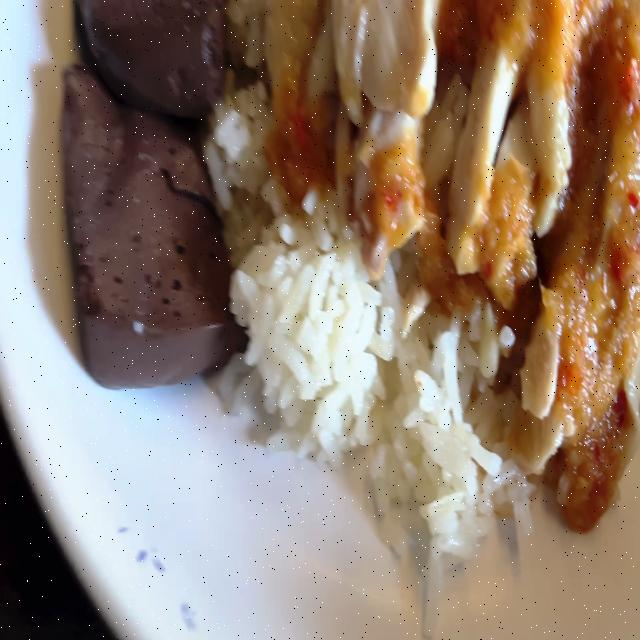boiled_chicken: (301, 0, 640, 401)
boiled_chicken_blood_jelly: (54, 73, 228, 364), (68, 0, 230, 110)
chicken_rice: (65, 0, 640, 585)
